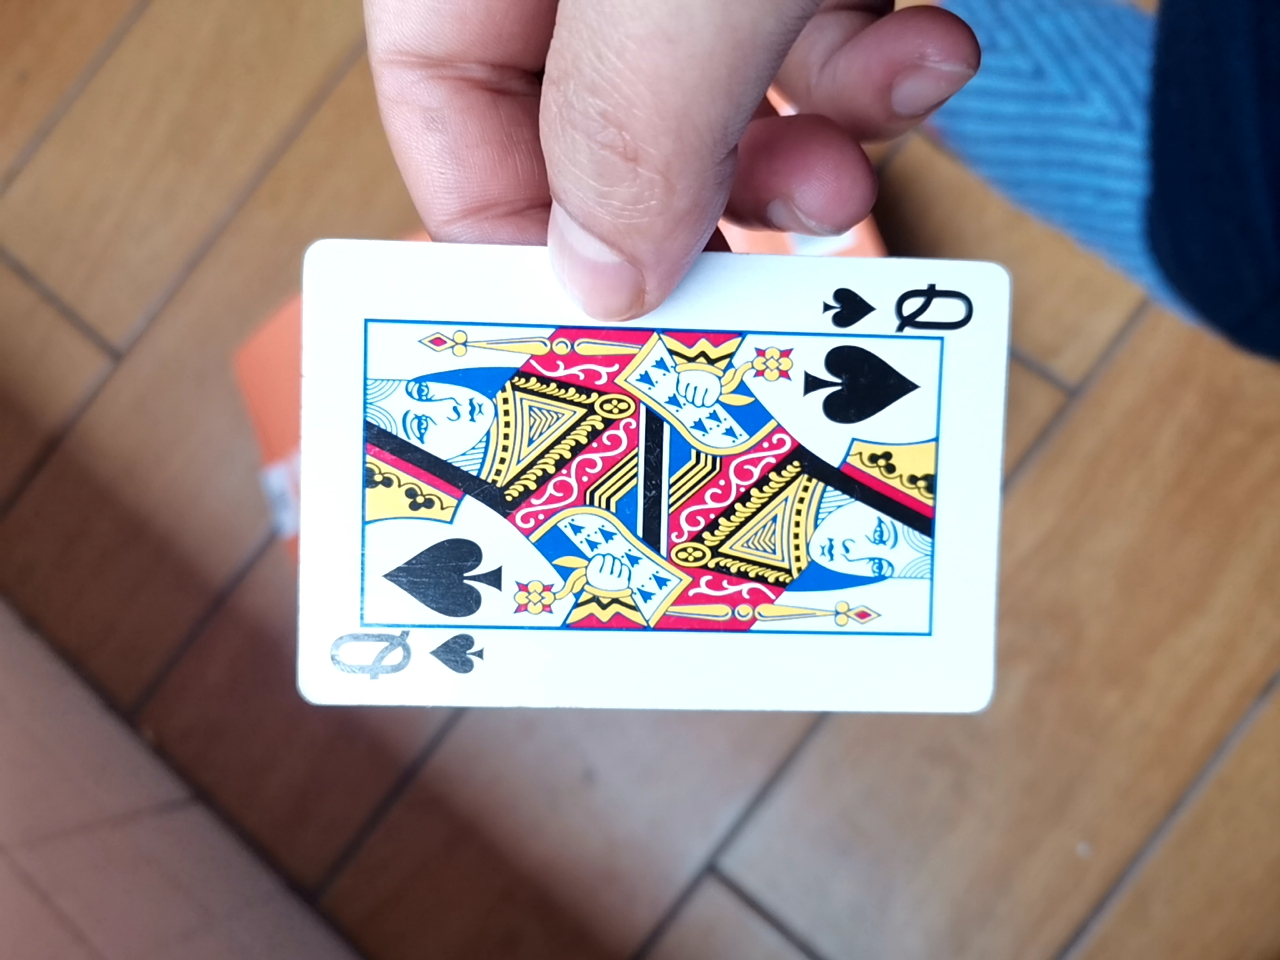ht q: (274, 228, 1006, 731)
